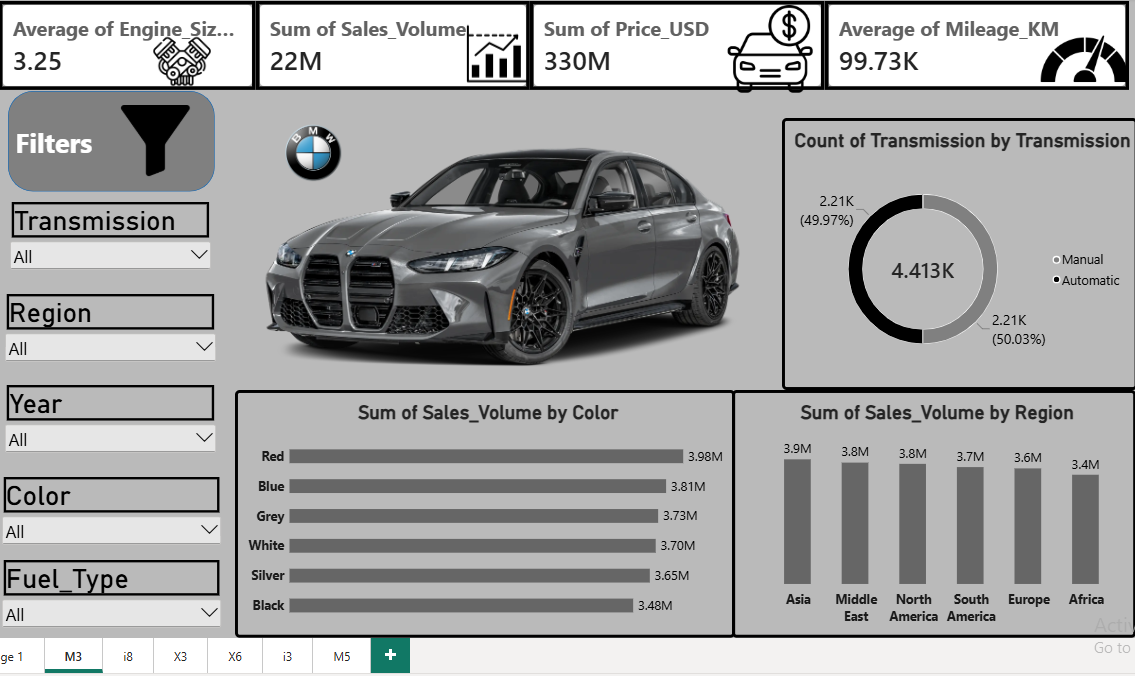

The dashboard page shown, as its layout file describes it:
{"tool":"powerbi","page":{"name":"M3","canvas":[1920,1080],"ordinal":1},"visuals":[{"type":"image","box":[379.8,161.9,940.7,553.3],"z":0},{"type":"slicer","fields":{"Values":["BMW_Car_Sales_Classification (1).Year"]},"box":[5.8,653.5,366.3,129.2],"z":1000},{"type":"slicer","fields":{"Values":["BMW_Car_Sales_Classification (1).Region"]},"box":[5.8,499.3,366.3,129.2],"z":2000},{"type":"slicer","fields":{"Values":["BMW_Car_Sales_Classification (1).Transmission"]},"box":[13.5,345.1,348.9,129.2],"z":3000},{"type":"slicer","fields":{"Values":["BMW_Car_Sales_Classification (1).Color"]},"box":[0,807.7,379.8,115.7],"z":4000},{"type":"slicer","fields":{"Values":["BMW_Car_Sales_Classification (1).Fuel_Type"]},"box":[0,948.4,379.8,131.1],"z":5000},{"type":"shape","box":[15.4,156.1,348.9,169.6],"z":6000},{"type":"image","box":[165.8,181.2,196.6,119.5],"z":7000},{"type":"image","box":[399,177.3,264.1,167.7],"z":8000},{"type":"barChart","fields":{"Category":["BMW_Car_Sales_Classification (1).Color"],"Y":["Sum(BMW_Car_Sales_Classification (1).Sales_Volume)"]},"box":[399,661.2,844.3,418.3],"z":9000},{"type":"columnChart","fields":{"Category":["BMW_Car_Sales_Classification (1).Region"],"Y":["Sum(BMW_Car_Sales_Classification (1).Sales_Volume)"]},"box":[1237.6,661.2,682.4,418.3],"z":10000},{"type":"donutChart","fields":{"Category":["BMW_Car_Sales_Classification (1).Transmission"],"Y":["CountNonNull(BMW_Car_Sales_Classification (1).Transmission)"]},"box":[1320.5,202.4,599.5,458.8],"z":11000},{"type":"cardVisual","fields":{"Data":["Sum(BMW_Car_Sales_Classification (1).Sales_Volume)"]},"box":[433.7,5.8,462.7,150.4],"z":12000},{"type":"cardVisual","fields":{"Data":["Sum(BMW_Car_Sales_Classification (1).Price_USD)"]},"box":[896.4,5.8,497.3,150.4],"z":13000},{"type":"cardVisual","fields":{"Data":["Avg(BMW_Car_Sales_Classification (1).Mileage_KM)"]},"box":[1393.7,5.8,513,150],"z":14000},{"type":"image","box":[1210.6,11.6,183.1,148.4],"z":15000},{"type":"image","box":[788.4,5.8,108,177.3],"z":17000},{"type":"image","box":[1744.6,28.9,175.4,148.4],"z":18000},{"type":"cardVisual","fields":{"Data":["Avg(BMW_Car_Sales_Classification (1).Engine_Size_L)"]},"box":[0,5.8,433.7,150.4],"z":19000},{"type":"image","box":[165.8,59.8,287.2,96.4],"z":20000}]}

Visuals, with their boxes on the page's 1920x1080 design canvas (x1, y1, x2, y2). These are canvas units, not pixel positions in the 1135x676 screenshot, which may show the page scaled, cropped or inside an application window:
image: (380, 162, 1320, 715)
slicer - BMW_Car_Sales_Classification (1).Year: (6, 654, 372, 783)
slicer - BMW_Car_Sales_Classification (1).Region: (6, 499, 372, 628)
slicer - BMW_Car_Sales_Classification (1).Transmission: (14, 345, 362, 474)
slicer - BMW_Car_Sales_Classification (1).Color: (0, 808, 380, 923)
slicer - BMW_Car_Sales_Classification (1).Fuel_Type: (0, 948, 380, 1080)
shape: (15, 156, 364, 326)
image: (166, 181, 362, 301)
image: (399, 177, 663, 345)
barChart - BMW_Car_Sales_Classification (1).Color x Sum(BMW_Car_Sales_Classification (1).Sales_Volume): (399, 661, 1243, 1080)
columnChart - BMW_Car_Sales_Classification (1).Region x Sum(BMW_Car_Sales_Classification (1).Sales_Volume): (1238, 661, 1920, 1080)
donutChart - BMW_Car_Sales_Classification (1).Transmission x CountNonNull(BMW_Car_Sales_Classification (1).Transmission): (1320, 202, 1920, 661)
cardVisual - Sum(BMW_Car_Sales_Classification (1).Sales_Volume): (434, 6, 896, 156)
cardVisual - Sum(BMW_Car_Sales_Classification (1).Price_USD): (896, 6, 1394, 156)
cardVisual - Avg(BMW_Car_Sales_Classification (1).Mileage_KM): (1394, 6, 1907, 156)
image: (1211, 12, 1394, 160)
image: (788, 6, 896, 183)
image: (1745, 29, 1920, 177)
cardVisual - Avg(BMW_Car_Sales_Classification (1).Engine_Size_L): (0, 6, 434, 156)
image: (166, 60, 453, 156)
